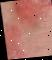plaque psoriasis: (0, 0, 52, 42), (2, 18, 52, 60)
